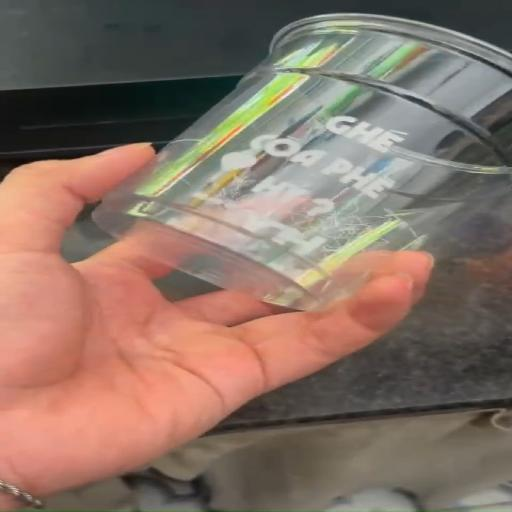ly_nhua: (94, 14, 511, 309)
